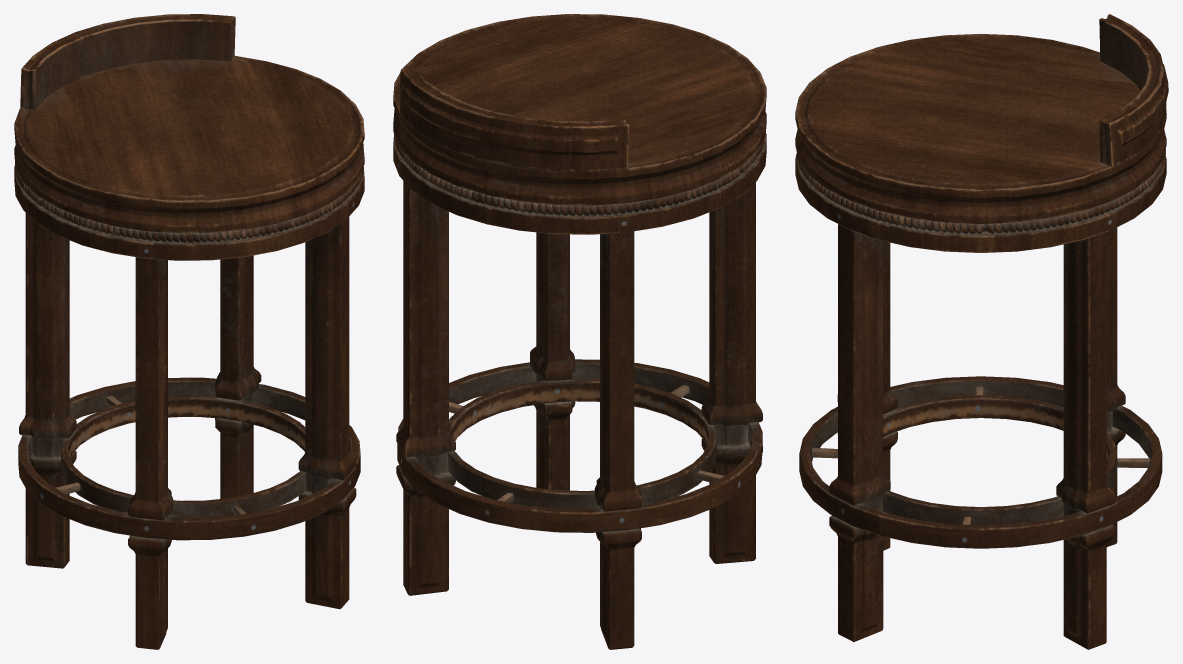
The model's file is Bar Chair.gltf.
3 views of the same model, side by side, from view 1: azimuth 30°, elevation 25°; view 2: azimuth 150°, elevation 25°; view 3: azimuth 270°, elevation 25° (orthographic). The views are drawn at different scales.
Visible parts, largest first — view 1: bar_chair_round_01; view 2: bar_chair_round_01; view 3: bar_chair_round_01.
Part boxes in pixels (<box>): bar_chair_round_01: <box>14,14,364,649</box>; bar_chair_round_01: <box>393,14,766,649</box>; bar_chair_round_01: <box>795,14,1168,649</box>.
Size of the model in its own units: 0.4832 by 0.7505 by 0.486.
